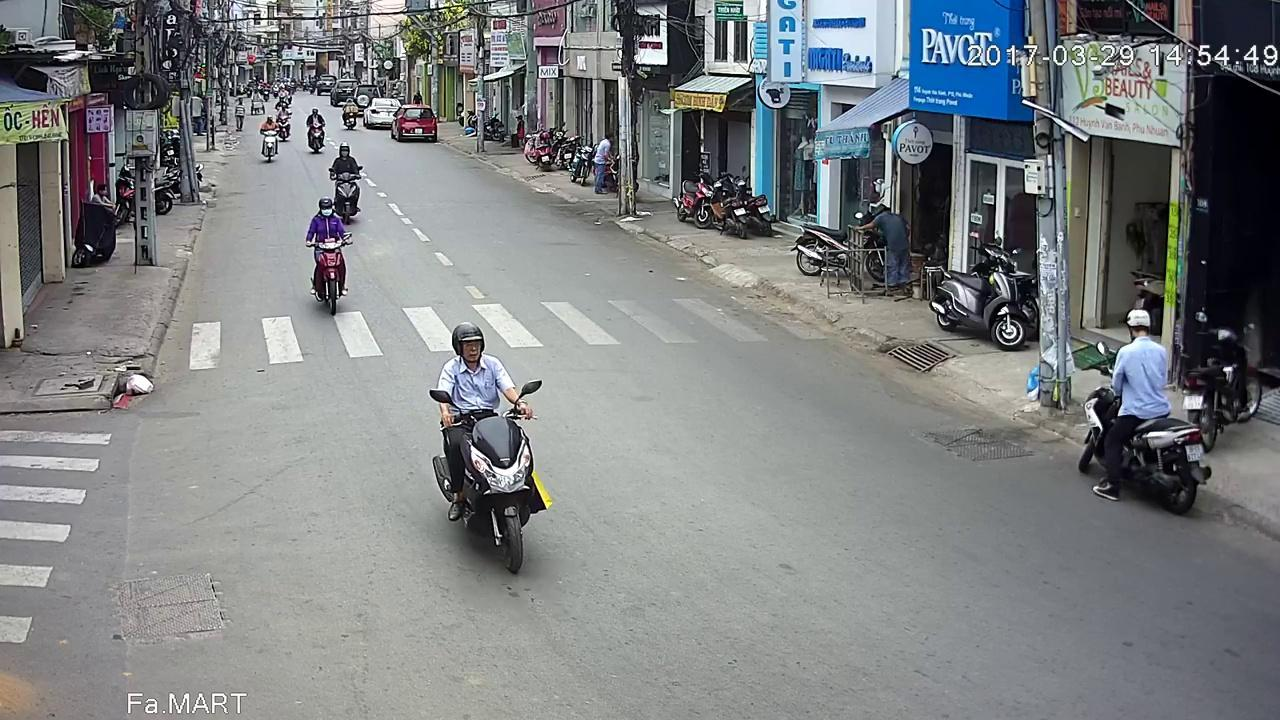xe hoi: (390, 39, 437, 77)
xe may: (432, 317, 558, 576), (1075, 318, 1210, 530), (305, 198, 350, 314), (329, 137, 365, 220), (302, 104, 326, 150), (259, 114, 281, 164), (275, 100, 294, 140)
